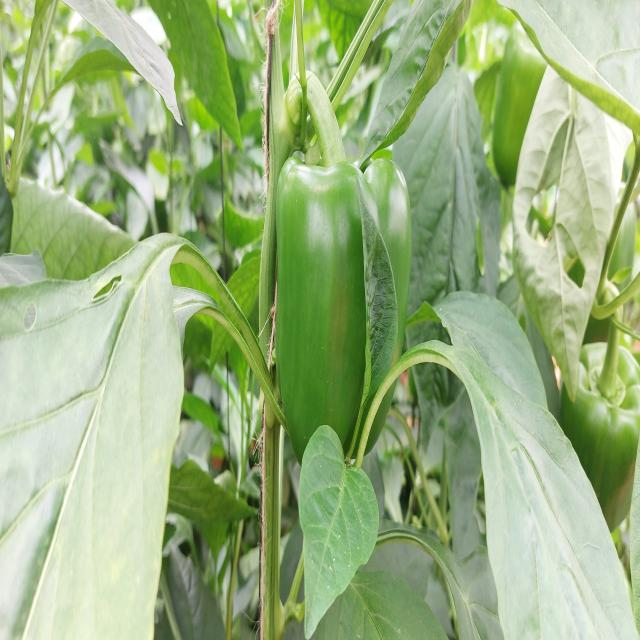Green--Not-ready-to-harvest: (274, 146, 412, 482)
